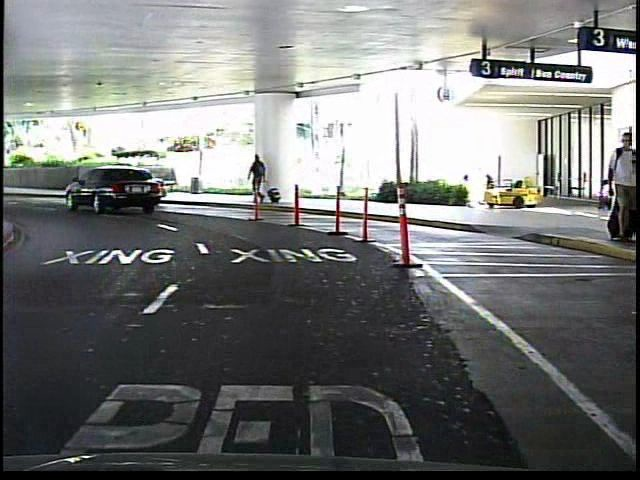person: (596, 114, 639, 246), (247, 151, 273, 209)
